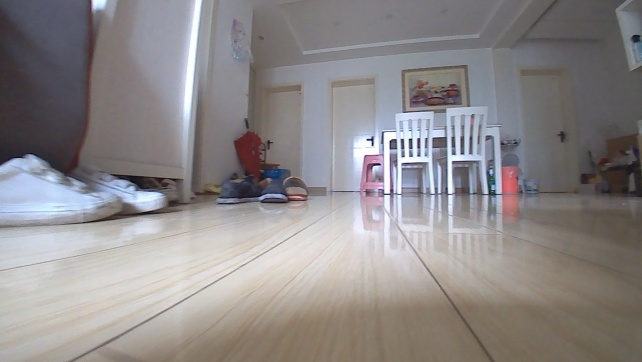dining_table: (357, 106, 507, 199)
door_anno: (520, 67, 578, 193), (327, 81, 378, 195), (260, 85, 302, 176)
shoe: (0, 150, 170, 230), (211, 171, 264, 208), (256, 175, 314, 205)
